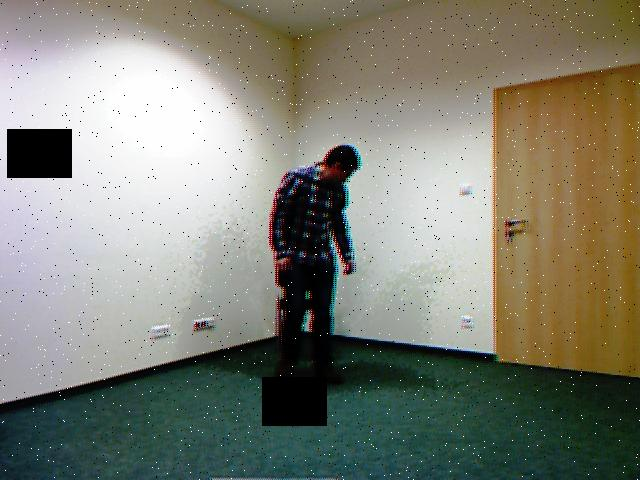walking: (270, 126, 364, 393)
